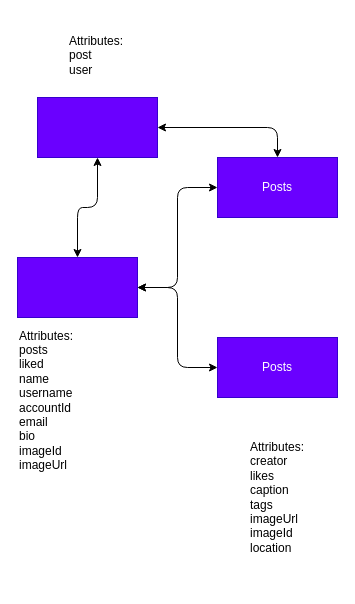
Image size: 355x604. Some labels were removed from this diagram. The shapes that lost their labels are listed below. From the top down, each one's centre as x and y in pixels, then its label:
the point at 97,127: Saves
the point at 77,287: Users
